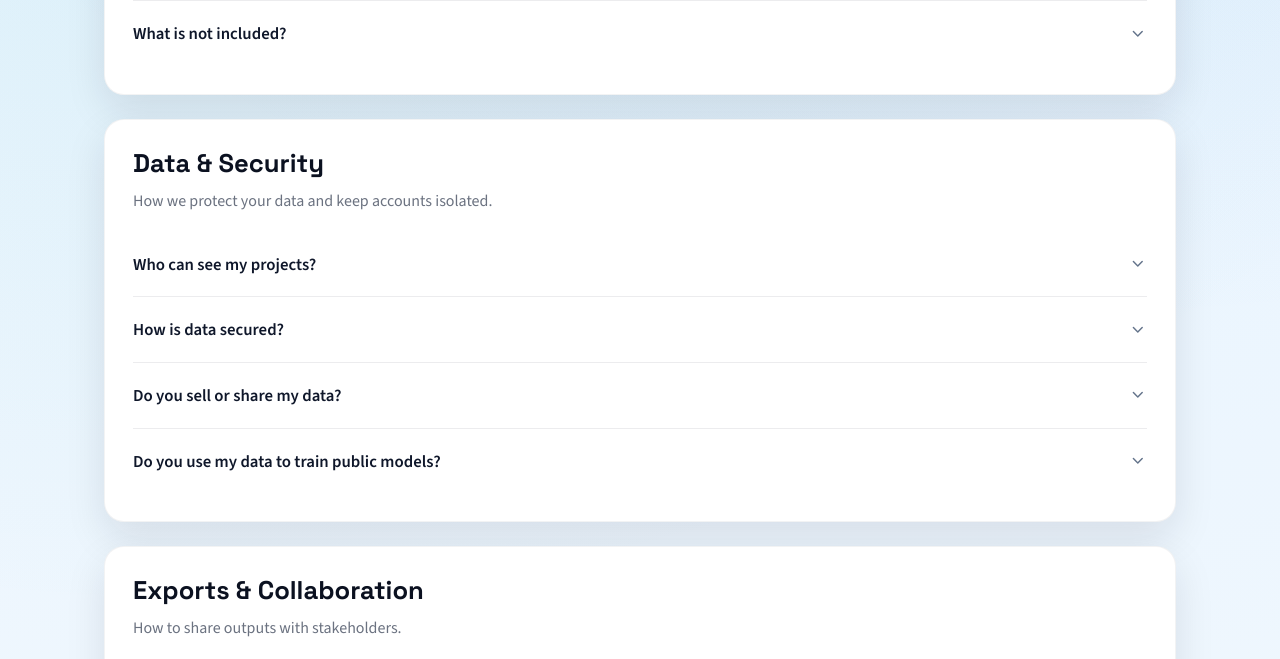
Scenario: public security trust copy › keeps the FAQ security answer aligned to repo-proven access controls
The width and height of the screenshot is (1280, 659).
(page scrolled)
Click the button "How is data secured?" at (209,329), box left=133, top=298, right=1147, bottom=362
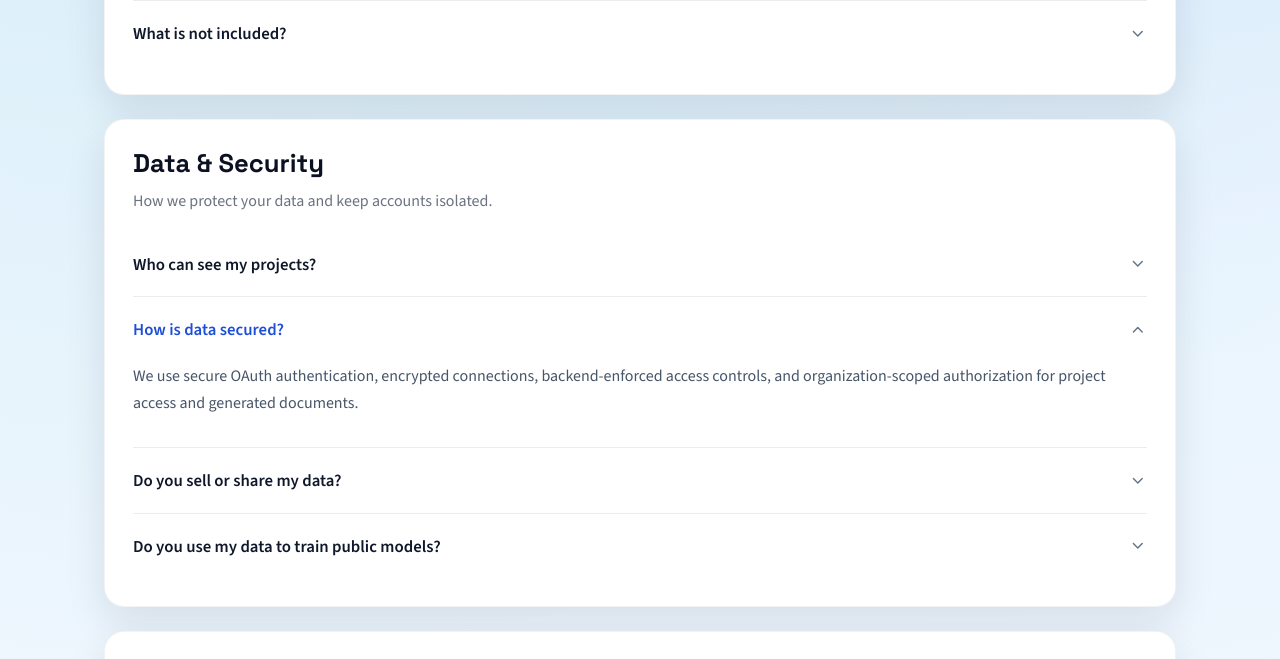
Result: the text "backend-enforced access controls, and organization-scoped authorization for project access and generated documents" is shown at left=133, top=365, right=1106, bottom=413
